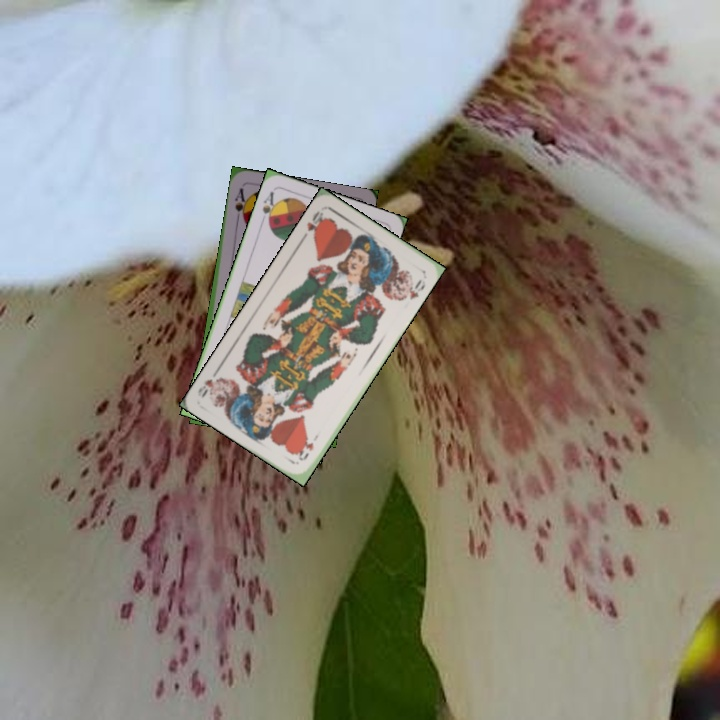HO: (298, 206, 328, 242), (294, 430, 321, 464)
SA: (258, 187, 280, 228), (231, 184, 250, 224)
